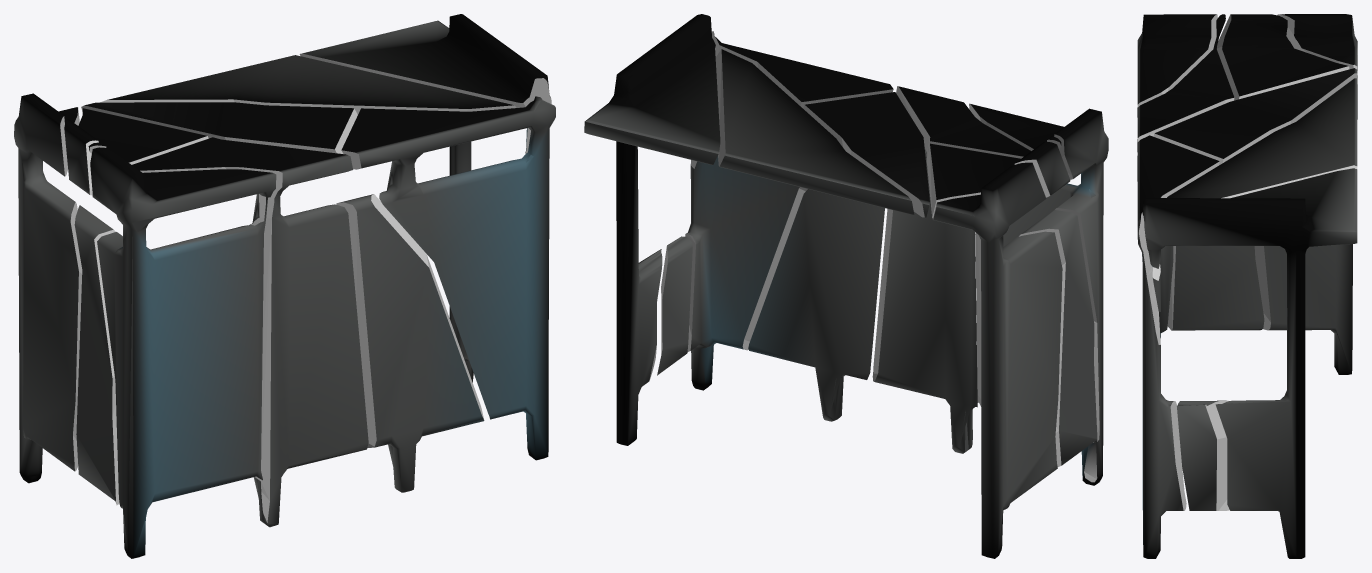
File: Bus Stops.glb
3 views of the same model, side by side, from view 1: azimuth 30°, elevation 25°; view 2: azimuth 150°, elevation 25°; view 3: azimuth 270°, elevation 25° (orthographic). The views are drawn at different scales.
Visible parts, largest first — view 1: Root, Root.005, Root.004, Root.001, Root.007, Root.003, Root.009, Root.002, Root.006, Root.008; view 2: Root.007, Root.004, Root.003, Root.005, Root.001, Root.009, Root, Root.002, Root.006, Root.008, Root.010; view 3: Root.003, Root.005, Root.007, Root.009, Root.002, Root.006, Root.008, Root, Root.010, Root.004.
Part boxes in pixels (x1=…): Root: x1=90, y1=147, x2=276, y2=558; Root.005: x1=341, y1=96, x2=555, y2=460; Root.004: x1=88, y1=137, x2=368, y2=527; Root.001: x1=336, y1=194, x2=484, y2=492; Root.007: x1=14, y1=93, x2=82, y2=483; Root.003: x1=299, y1=14, x2=551, y2=382; Root.009: x1=100, y1=55, x2=530, y2=153; Root.002: x1=74, y1=205, x2=119, y2=504; Root.006: x1=81, y1=102, x2=357, y2=153; Root.008: x1=64, y1=108, x2=208, y2=195; Root.007: x1=932, y1=162, x2=1062, y2=558; Root.004: x1=872, y1=86, x2=1061, y2=453; Root.003: x1=584, y1=14, x2=720, y2=445; Root.005: x1=685, y1=31, x2=893, y2=390; Root.001: x1=748, y1=189, x2=884, y2=421; Root.009: x1=715, y1=49, x2=914, y2=214; Root: x1=969, y1=103, x2=1108, y2=485; Root.002: x1=1019, y1=210, x2=1097, y2=466; Root.006: x1=803, y1=92, x2=929, y2=217; Root.008: x1=926, y1=142, x2=1070, y2=218; Root.010: x1=657, y1=236, x2=692, y2=375; Root.003: x1=1143, y1=168, x2=1357, y2=558; Root.005: x1=1137, y1=135, x2=1219, y2=558; Root.007: x1=1254, y1=14, x2=1357, y2=374; Root.009: x1=1152, y1=78, x2=1357, y2=311; Root.002: x1=1167, y1=246, x2=1264, y2=330; Root.006: x1=1153, y1=68, x2=1357, y2=165; Root.008: x1=1217, y1=14, x2=1349, y2=100; Root: x1=1137, y1=14, x2=1217, y2=338; Root.010: x1=1177, y1=400, x2=1229, y2=510; Root.004: x1=1137, y1=14, x2=1234, y2=152.
Bounding box in the file's own units: 2.38 × 2.05 × 1.14.
